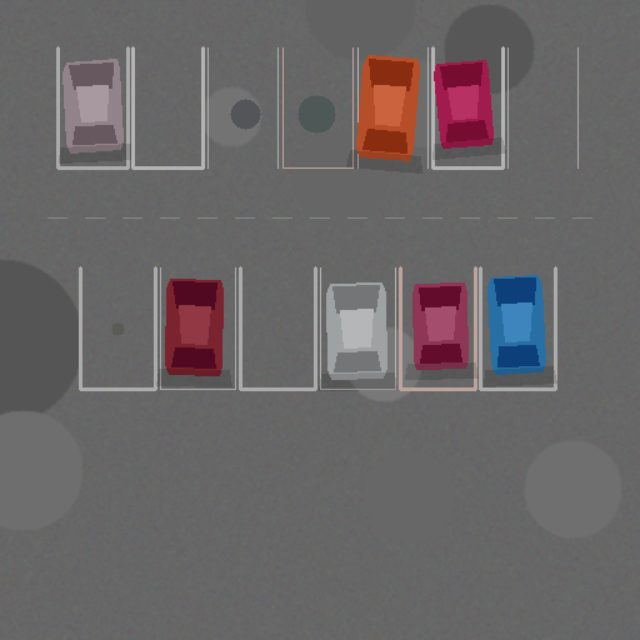space-empty: (80, 267, 155, 389), (240, 267, 315, 389), (133, 48, 203, 168), (207, 48, 277, 168), (283, 48, 353, 168), (507, 48, 577, 168)
space-occupied: (160, 267, 235, 389), (320, 267, 395, 389), (400, 267, 475, 389), (480, 267, 555, 389), (57, 48, 127, 168), (357, 48, 427, 168), (433, 48, 503, 168)
